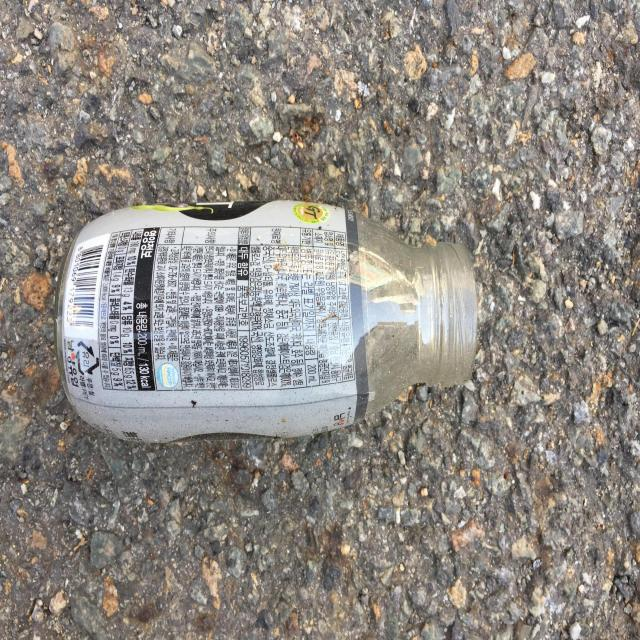glass: (54, 200, 478, 442)
